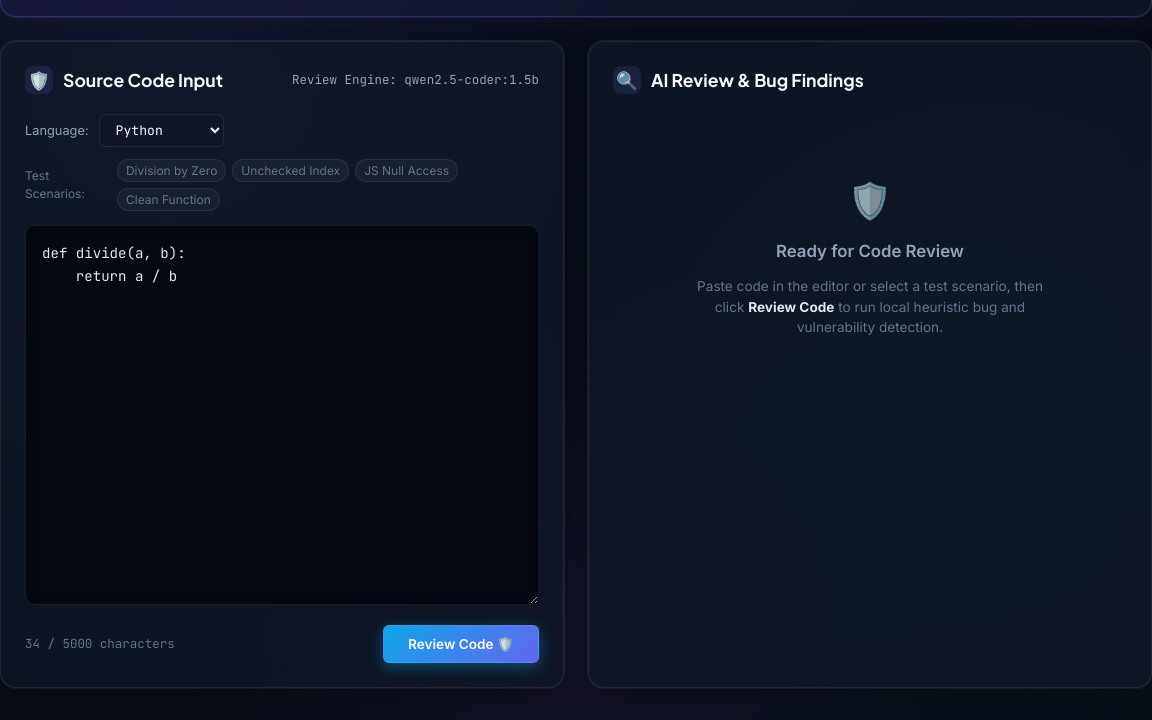
Scenario: CodeReviewView Feature Integration › displays empty issues clean state when code has no issues
(page scrolled)
Click the button named "Review Code with AI": {"x": 461, "y": 644} 383,625 -> 539,663
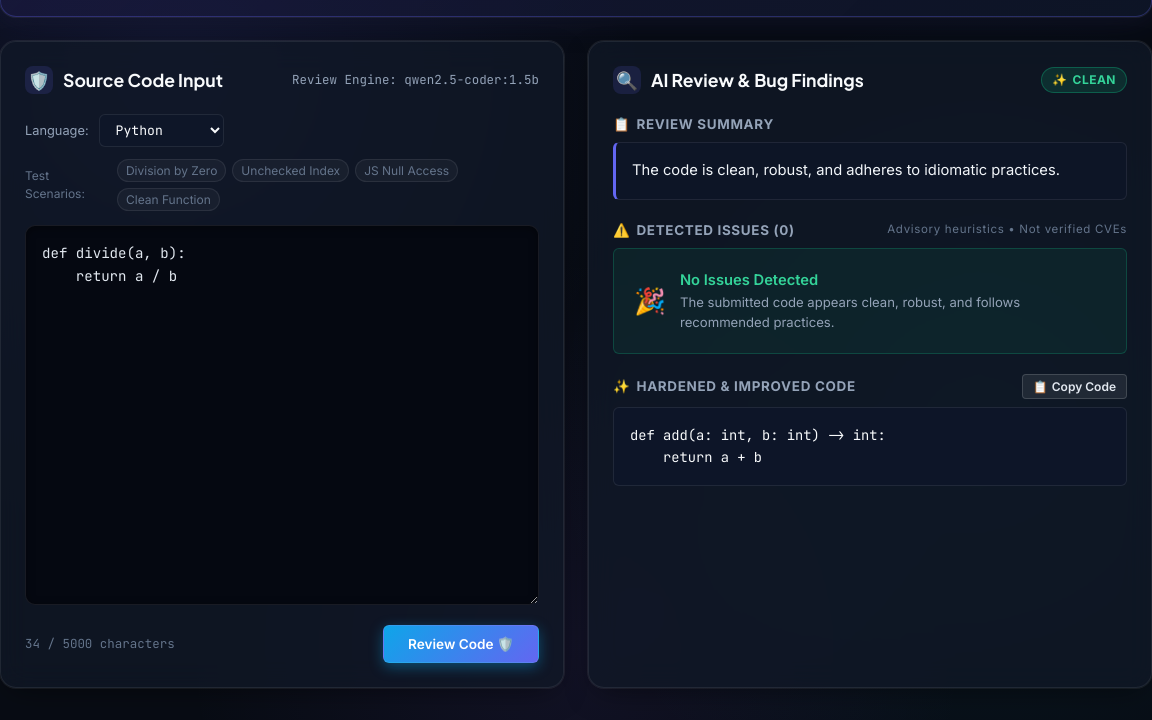
Expected: the text "CLEAN" is shown, 1072,71 -> 1116,89
Expected: the text "No Issues Detected" is shown, 680,271 -> 818,289
Expected: the text "The submitted code appears clean, robust" is shown, 680,294 -> 1020,330
